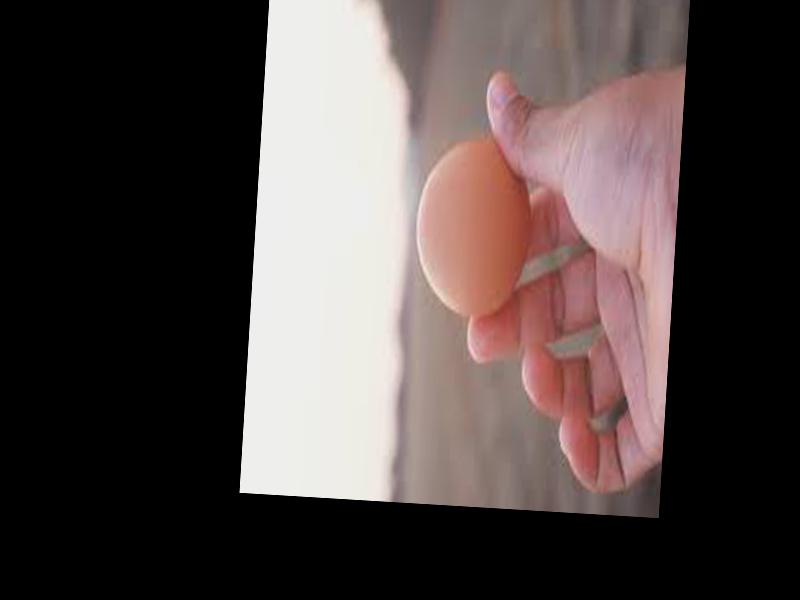Eggs: (411, 136, 533, 320)
